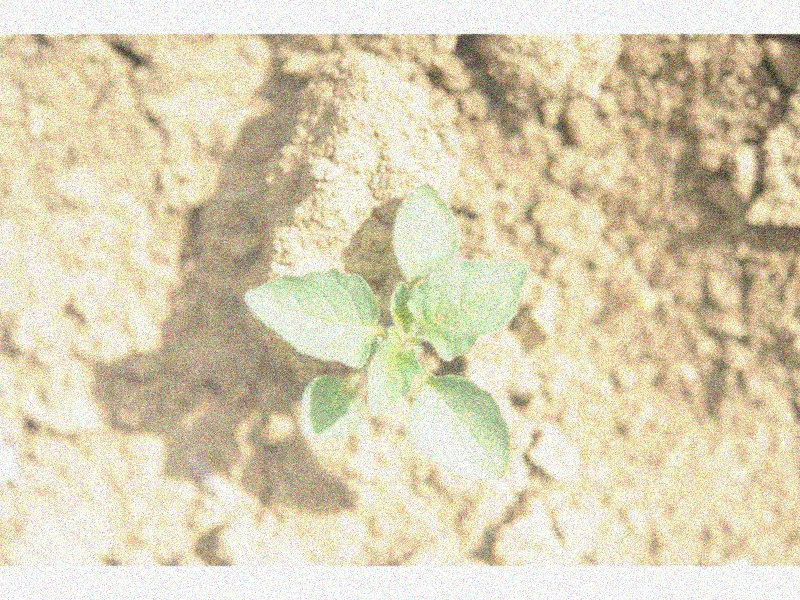nightshade: (244, 180, 530, 480)
